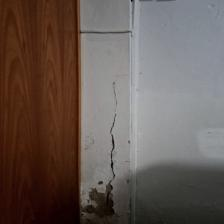High: (79, 26, 135, 224)
